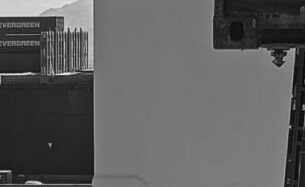twist_lock_2: (266, 43, 290, 74)
